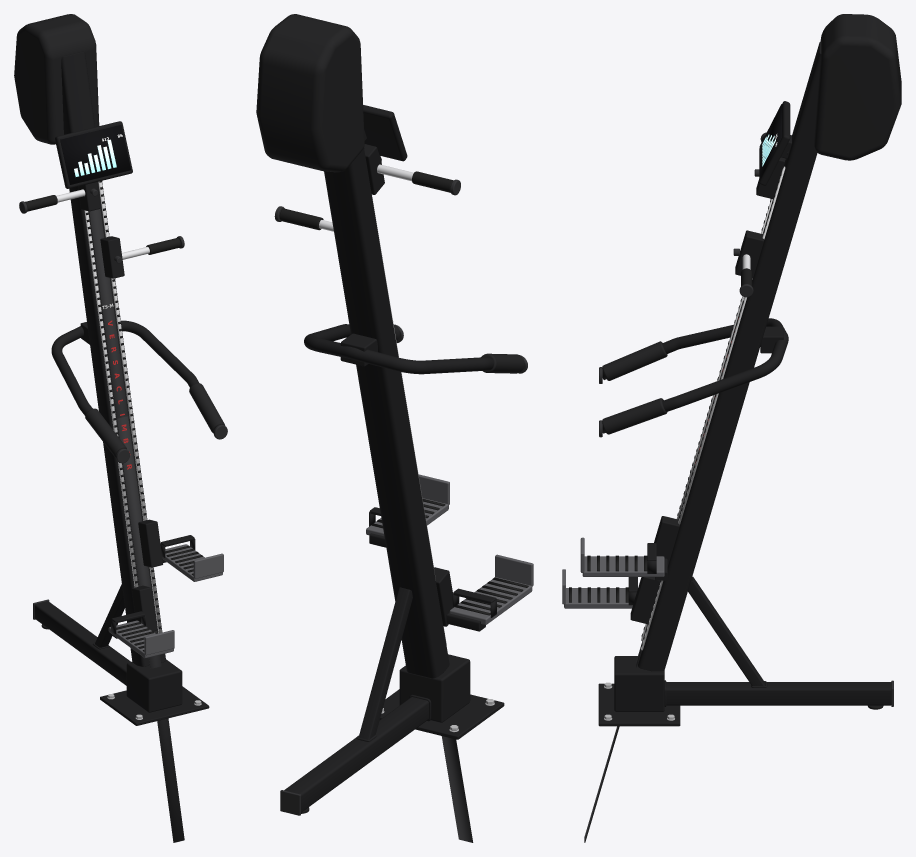
The model's file is versaclimber-ts-magnetic_v001.glb.
3 renders of one model, left to right at view 1: azimuth 30°, elevation 25°; view 2: azimuth 150°, elevation 25°; view 3: azimuth 270°, elevation 25°, orthographic. The views are drawn at different scales.
Parts seen in each view (by area): view 1: versaclimber-ts-magnetic_frame.002, versaclimber-ts-magnetic_hood, versaclimber-ts-magnetic_plastic.001, versaclimber-ts-magnetic_frame.003, versaclimber-ts-magnetic_frame.004, versaclimber-ts-magnetic_steel.001, versaclimber-ts-magnetic_glass, versaclimber-ts-magnetic_frame.001, versaclimber-ts-magnetic_frame, versaclimber-ts-magnetic_foam, versaclimber-ts-magnetic_grey, versaclimber-ts-magnetic_grey.001 (+6 smaller); view 2: versaclimber-ts-magnetic_frame.002, versaclimber-ts-magnetic_hood, versaclimber-ts-magnetic_frame.003, versaclimber-ts-magnetic_frame.001, versaclimber-ts-magnetic_frame, versaclimber-ts-magnetic_frame.004, versaclimber-ts-magnetic_grey, versaclimber-ts-magnetic_frame.005, versaclimber-ts-magnetic_grey.001, versaclimber-ts-magnetic_plastic.001, versaclimber-ts-magnetic_rubber.002, versaclimber-ts-magnetic_rubber.001 (+1 smaller); view 3: versaclimber-ts-magnetic_frame.002, versaclimber-ts-magnetic_hood, versaclimber-ts-magnetic_frame.003, versaclimber-ts-magnetic_frame.004, versaclimber-ts-magnetic_frame.001, versaclimber-ts-magnetic_grey, versaclimber-ts-magnetic_foam, versaclimber-ts-magnetic_frame, versaclimber-ts-magnetic_steel.001, versaclimber-ts-magnetic_rubber.001, versaclimber-ts-magnetic_frame.005, versaclimber-ts-magnetic_plastic.001 (+1 smaller).
Boxes of the visible parts, x1,y1,x2,y2 form: versaclimber-ts-magnetic_frame.002: [34, 51, 166, 685]; versaclimber-ts-magnetic_hood: [14, 14, 99, 144]; versaclimber-ts-magnetic_plastic.001: [89, 208, 184, 842]; versaclimber-ts-magnetic_frame.003: [51, 181, 199, 649]; versaclimber-ts-magnetic_frame.004: [78, 182, 162, 631]; versaclimber-ts-magnetic_steel.001: [84, 181, 161, 633]; versaclimber-ts-magnetic_glass: [60, 125, 131, 184]; versaclimber-ts-magnetic_frame.001: [126, 659, 182, 712]; versaclimber-ts-magnetic_frame: [100, 535, 209, 725]; versaclimber-ts-magnetic_foam: [85, 383, 225, 457]; versaclimber-ts-magnetic_grey: [108, 544, 222, 658]; versaclimber-ts-magnetic_grey.001: [144, 553, 223, 655]; versaclimber-ts-magnetic_frame.002: [284, 148, 485, 812]; versaclimber-ts-magnetic_hood: [256, 14, 364, 172]; versaclimber-ts-magnetic_frame.003: [304, 147, 496, 741]; versaclimber-ts-magnetic_frame.001: [399, 654, 470, 722]; versaclimber-ts-magnetic_frame: [369, 507, 504, 739]; versaclimber-ts-magnetic_frame.004: [340, 129, 452, 626]; versaclimber-ts-magnetic_grey: [366, 498, 532, 624]; versaclimber-ts-magnetic_frame.005: [363, 105, 407, 161]; versaclimber-ts-magnetic_grey.001: [418, 474, 533, 586]; versaclimber-ts-magnetic_plastic.001: [441, 736, 473, 842]; versaclimber-ts-magnetic_rubber.002: [279, 171, 453, 230]; versaclimber-ts-magnetic_rubber.001: [371, 499, 528, 615]; versaclimber-ts-magnetic_frame.002: [638, 41, 891, 705]; versaclimber-ts-magnetic_hood: [814, 14, 901, 160]; versaclimber-ts-magnetic_frame.003: [602, 151, 788, 706]; versaclimber-ts-magnetic_frame.004: [630, 135, 792, 624]; versaclimber-ts-magnetic_frame.001: [614, 656, 664, 711]; versaclimber-ts-magnetic_grey: [564, 556, 664, 608]; versaclimber-ts-magnetic_foam: [602, 341, 667, 434]; versaclimber-ts-magnetic_frame: [598, 543, 680, 726]; versaclimber-ts-magnetic_steel.001: [641, 166, 785, 650]; versaclimber-ts-magnetic_rubber.001: [569, 555, 647, 602]; versaclimber-ts-magnetic_frame.005: [759, 101, 790, 185]; versaclimber-ts-magnetic_plastic.001: [584, 190, 776, 842].
Bounding box in the file's own units: 0.616 × 2.86 × 1.08.
